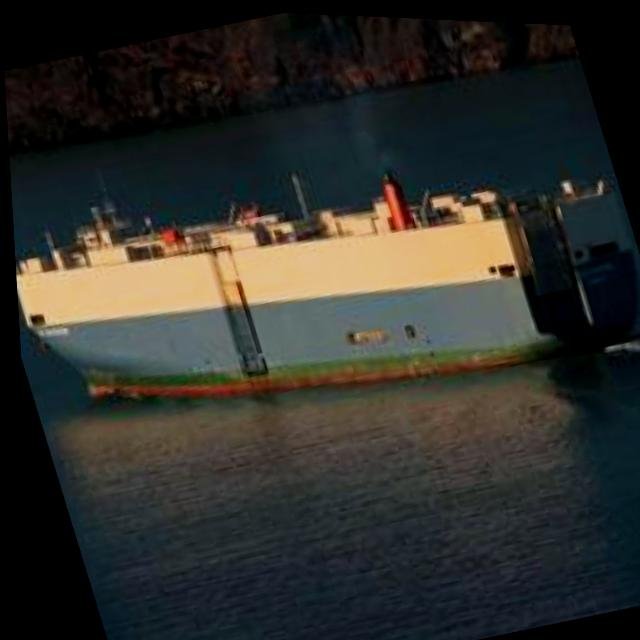ship2: (13, 170, 637, 404)
